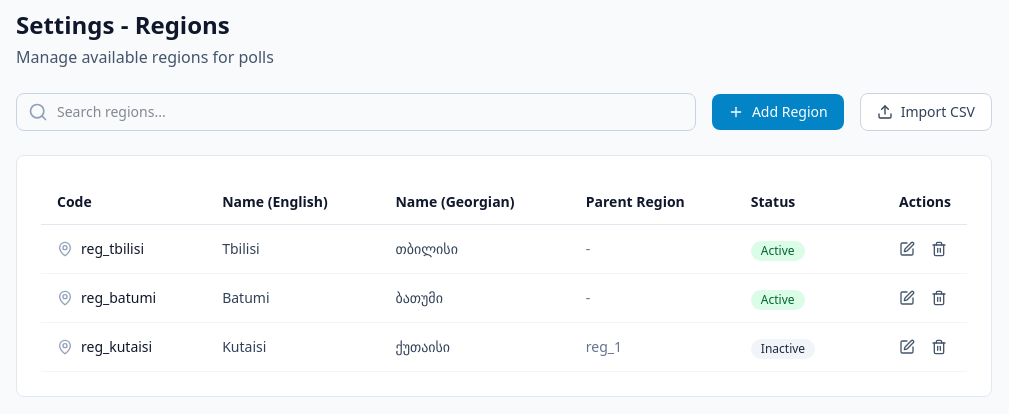
Scenario: SettingsRegions Component › Search Functionality › should filter regions by code
Expected: the text "Tbilisi" is shown, [206,224,380,274]
// Type in search box
Type "tbilisi" into the field with placeholder "Search regions..." at point(356, 112), box [16,93,696,131]
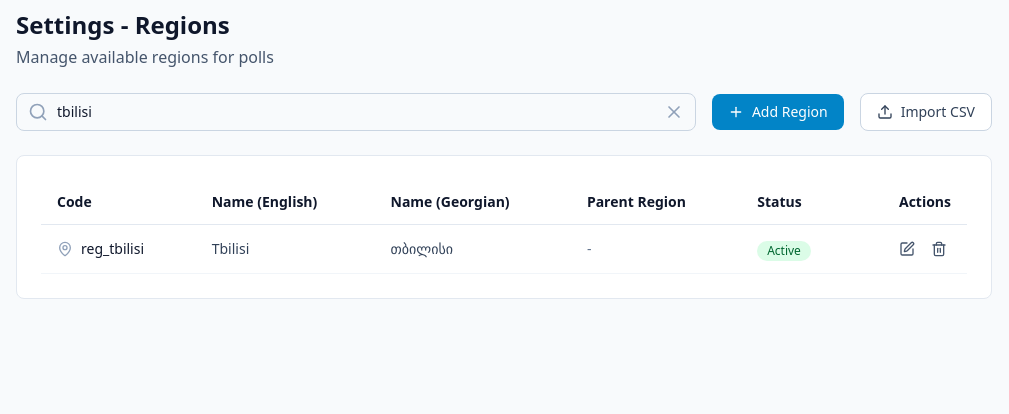
Expected: the text "Tbilisi" is shown, [196,224,374,274]
Result: the text "batumi" is gone
Result: the text "kutaisi" is gone
